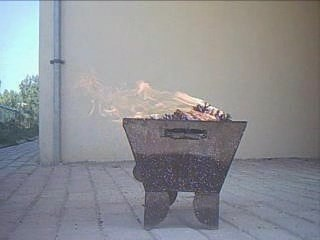fire: (64, 53, 238, 140)
